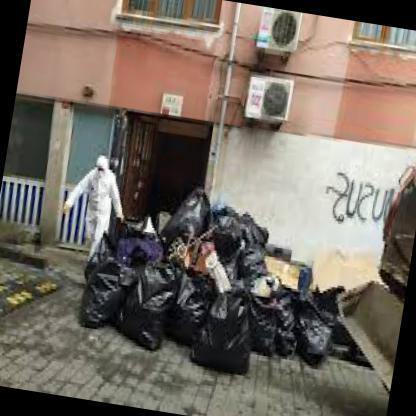Garbage: (63, 177, 347, 415), (113, 262, 186, 354), (189, 287, 251, 390), (164, 180, 214, 260), (292, 292, 338, 368), (241, 282, 279, 366)
